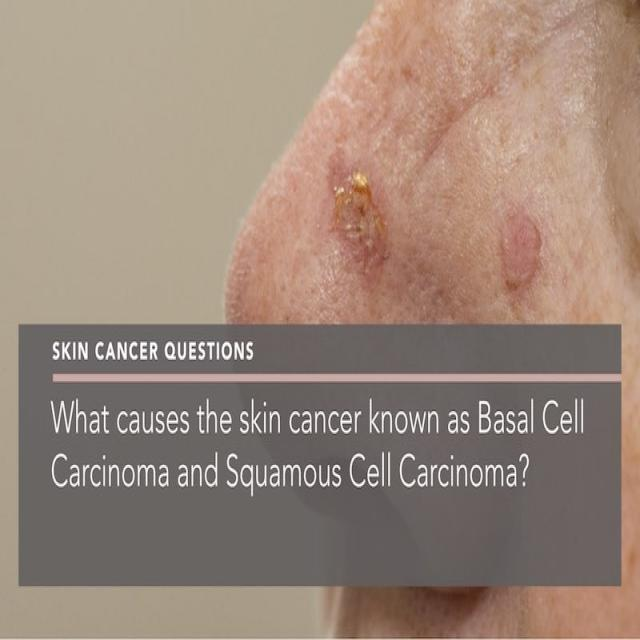Cancer: (312, 156, 398, 290)
